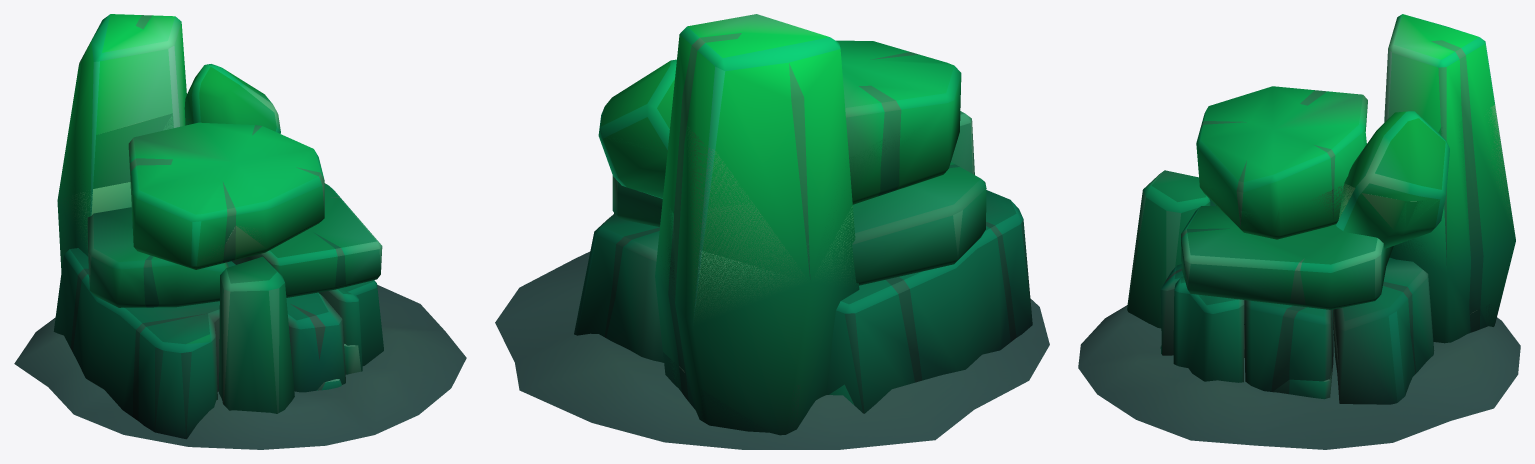
File: Stone_V4_0.fbx
3 views of the same model, side by side, from view 1: azimuth 30°, elevation 25°; view 2: azimuth 150°, elevation 25°; view 3: azimuth 270°, elevation 25° (orthographic). The views are drawn at different scales.
Visible parts, largest first — view 1: Stone_V4_0, Stone_V4_1, Stone_V4_2, Stone_V4_3; view 2: Stone_V4_0, Stone_V4_1, Stone_V4_2, Stone_V4_3; view 3: Stone_V4_0, Stone_V4_1, Stone_V4_2, Stone_V4_3.
Part boxes in pixels (x1,y1,x2,y2): Stone_V4_0: (14,14,466,449); Stone_V4_1: (58,113,324,266); Stone_V4_2: (58,182,131,253); Stone_V4_3: (317,344,361,390); Stone_V4_0: (495,14,1049,449); Stone_V4_1: (605,126,908,325); Stone_V4_2: (655,206,858,325); Stone_V4_3: (663,352,854,434); Stone_V4_0: (1078,14,1520,449); Stone_V4_1: (1202,104,1515,272); Stone_V4_2: (1390,206,1482,272); Stone_V4_3: (1160,297,1501,399).
Bounding box in the file's own units: 222 × 171 × 225.
